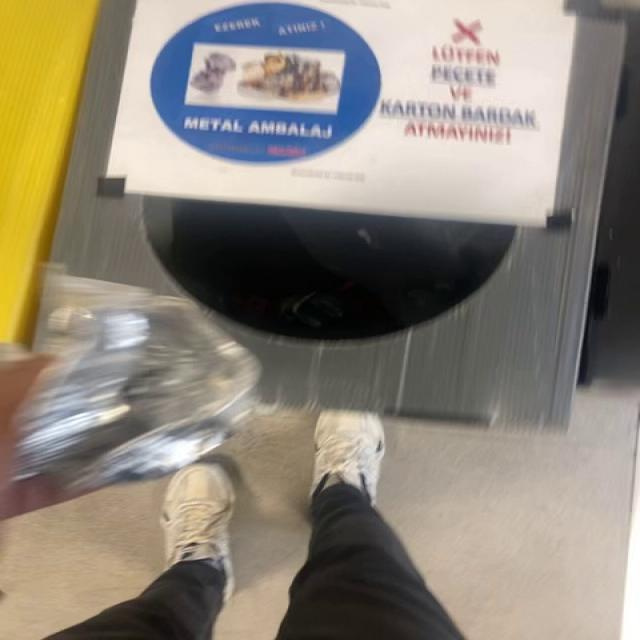metal: (12, 271, 260, 492)
